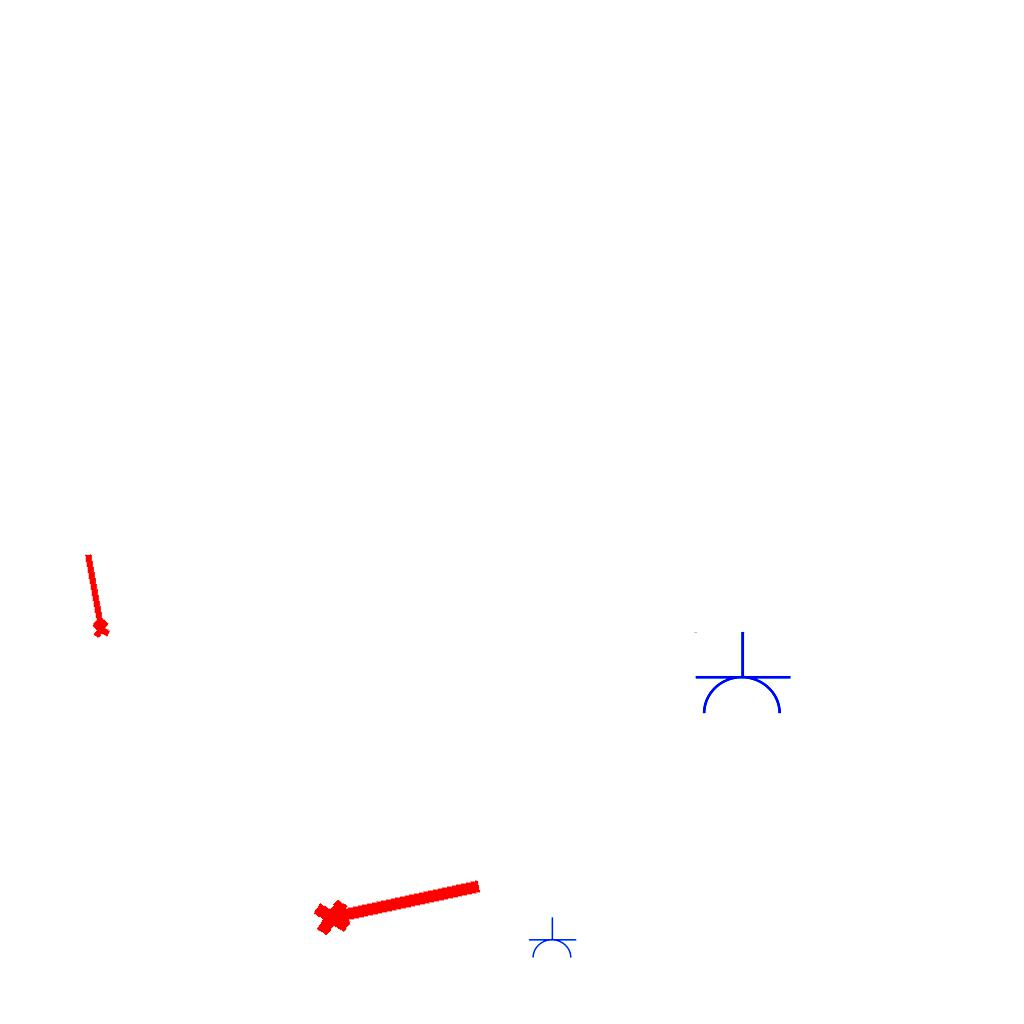ASR_Ansaugoeffnung: (307, 860, 489, 942), (75, 550, 113, 641)
Schukosteckdose_einfach: (692, 631, 792, 718), (527, 917, 577, 960)
